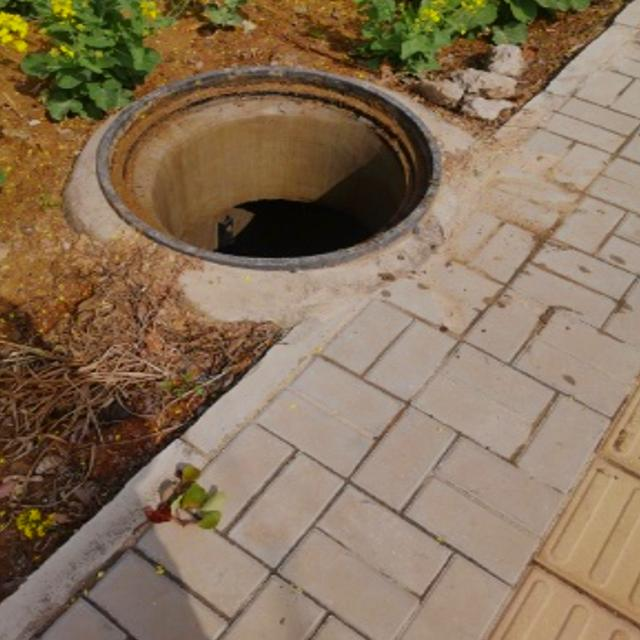lose: (80, 41, 469, 269)
